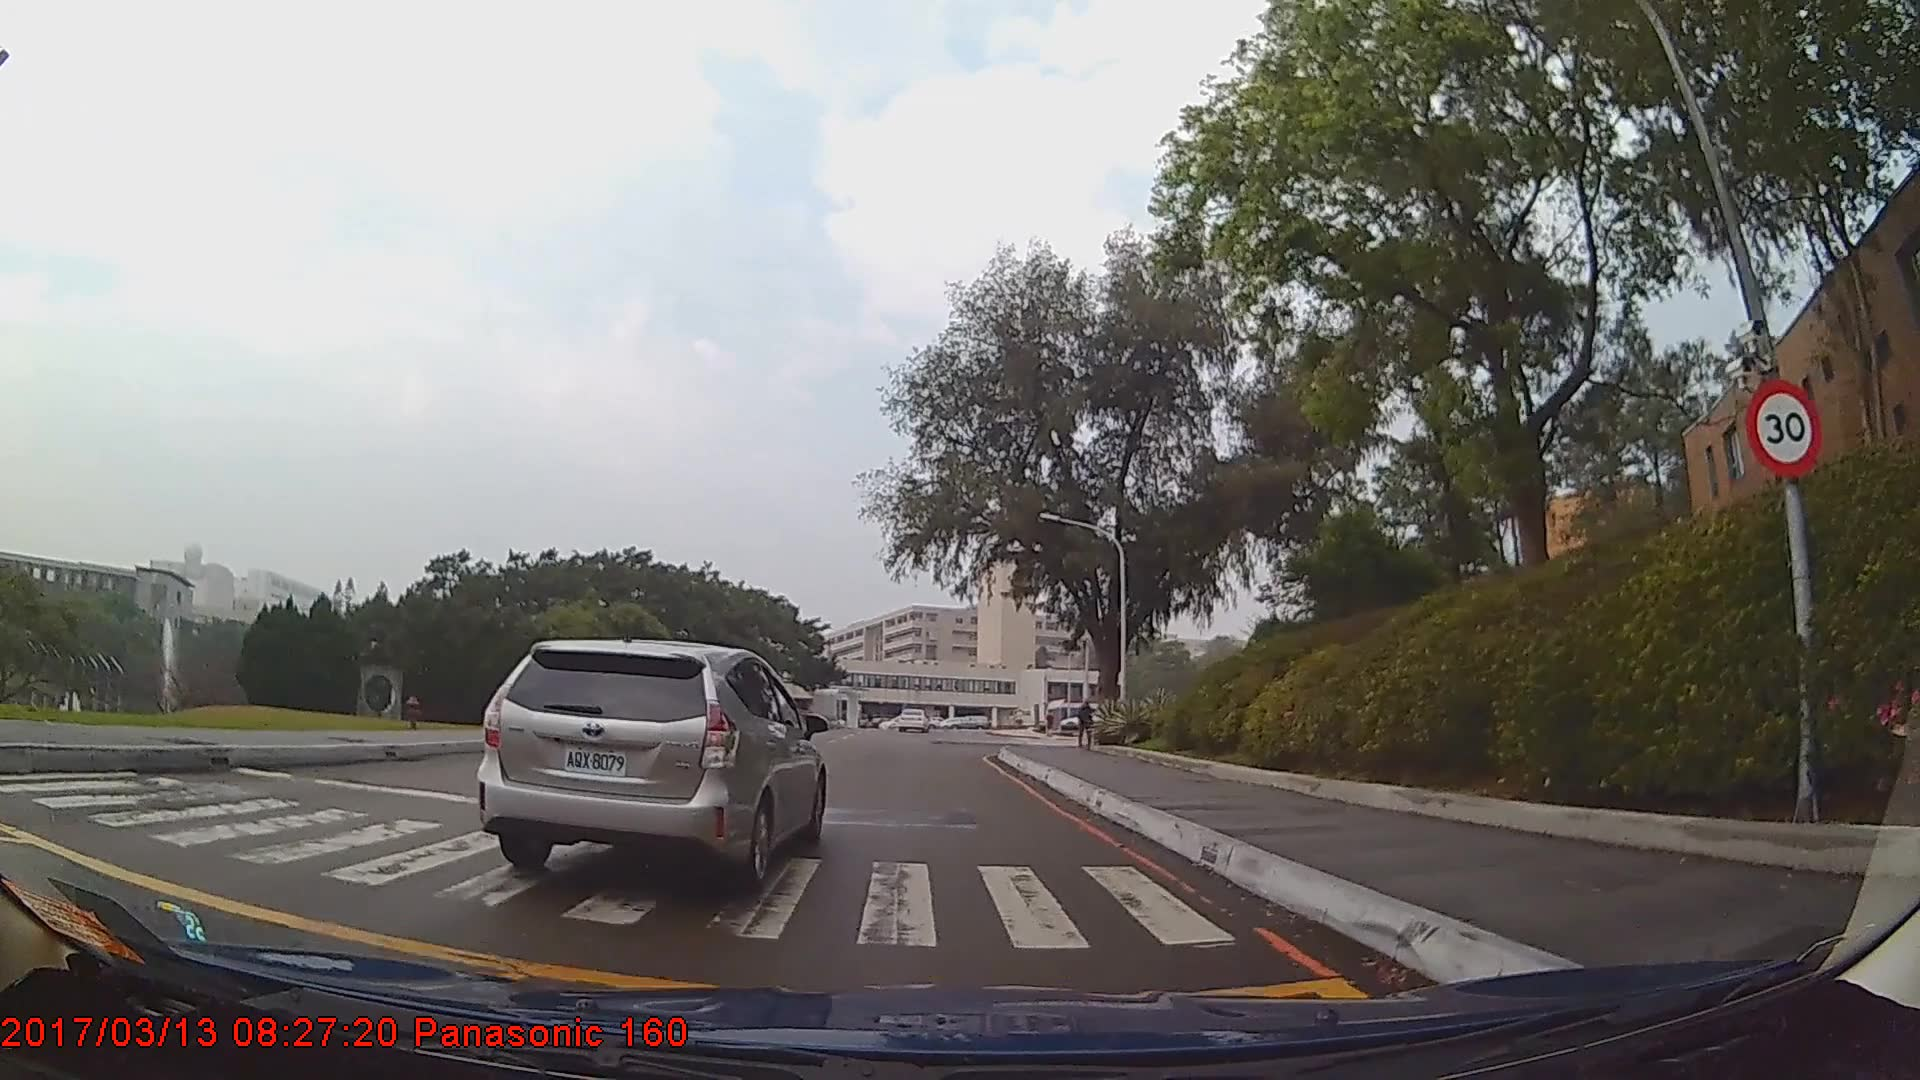pedestrian: (1077, 699, 1097, 752)
vehicle: (472, 633, 828, 889), (895, 706, 928, 733)
